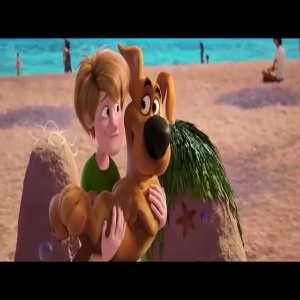Scooby: (130, 70, 183, 178)
Shagy: (75, 49, 125, 158)
